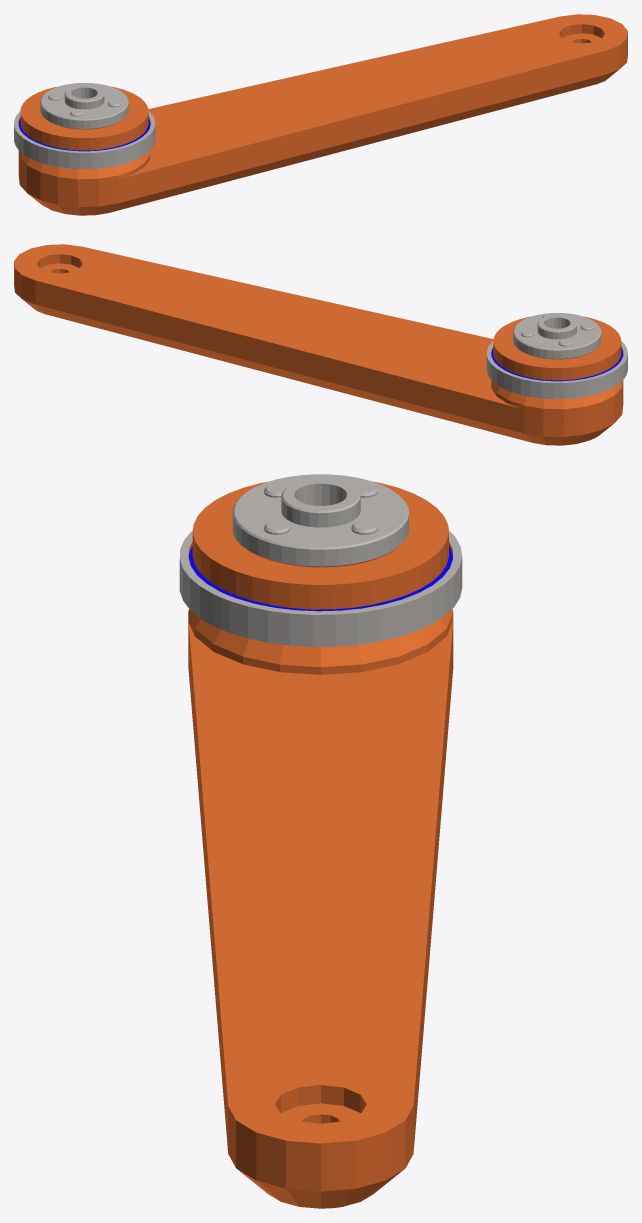
3 renders of one model, top to bottom at view 1: azimuth 30°, elevation 25°; view 2: azimuth 150°, elevation 25°; view 3: azimuth 270°, elevation 25°, orthographic. The views are drawn at different scales.
Parts seen in each view (by area): view 1: FL_link2; view 2: FL_link2; view 3: FL_link2.
Boxes of the visible parts, <box> form: FL_link2: <box>14,14,627,215</box>; FL_link2: <box>14,244,627,445</box>; FL_link2: <box>179,474,462,1208</box>.
Bounding box in the file's own units: 0.1565 × 0.032 × 0.0255.
